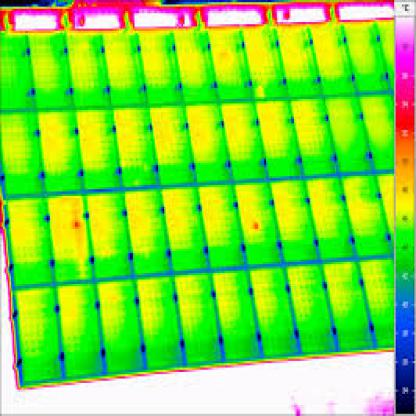Defects: (72, 216, 84, 236), (250, 218, 264, 234)
